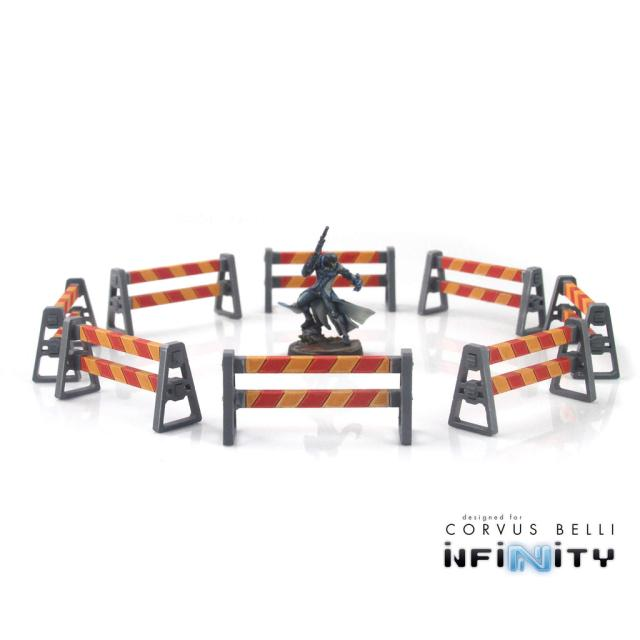cone: (34, 233, 227, 456), (220, 347, 414, 447), (444, 321, 599, 434), (416, 230, 552, 339), (258, 233, 414, 324)
